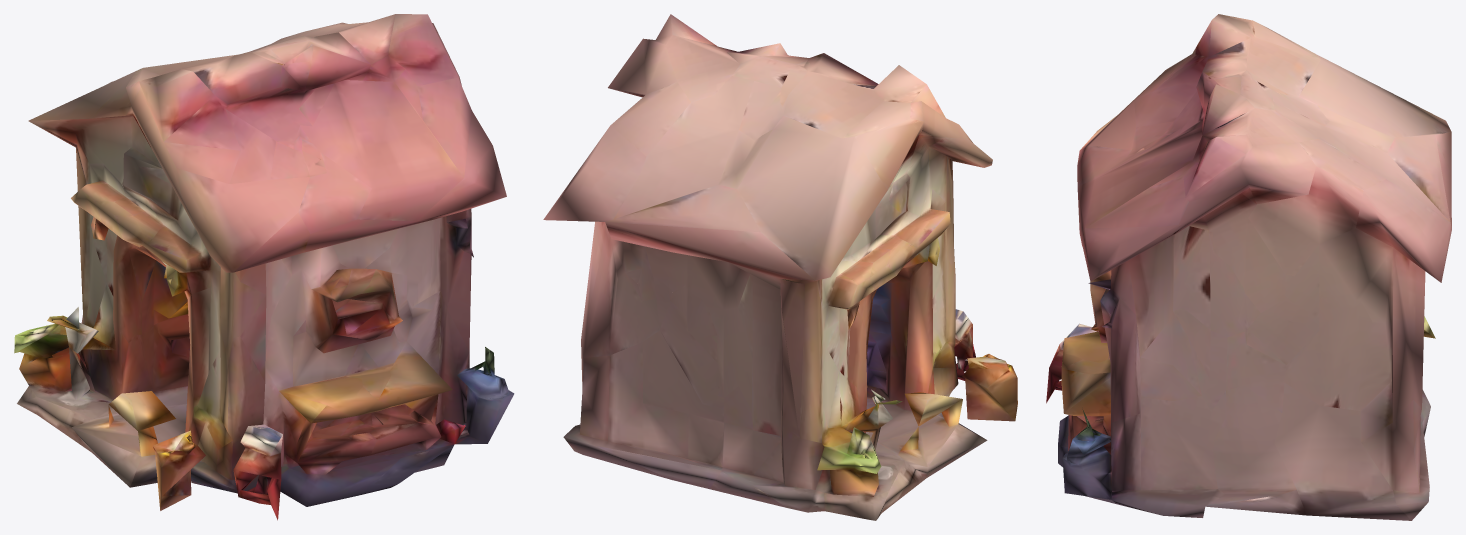
File: tavern_small.glb
3 renders of one model, left to right at view 1: azimuth 30°, elevation 25°; view 2: azimuth 150°, elevation 25°; view 3: azimuth 270°, elevation 25°, orthographic. The views are drawn at different scales.
Parts seen in each view (by area): view 1: tripo_node_5247cef7-4d05-4a25-8055-e1826330bb93; view 2: tripo_node_5247cef7-4d05-4a25-8055-e1826330bb93; view 3: tripo_node_5247cef7-4d05-4a25-8055-e1826330bb93.
Part boxes in pixels (box(x1,y1,x2,y2)): tripo_node_5247cef7-4d05-4a25-8055-e1826330bb93: box(14, 14, 514, 520); tripo_node_5247cef7-4d05-4a25-8055-e1826330bb93: box(543, 14, 1017, 520); tripo_node_5247cef7-4d05-4a25-8055-e1826330bb93: box(1046, 14, 1451, 520).
Size of the model in its own units: 0.8738 by 0.9751 by 0.9254.
Materials: 1 (1 with a texture image).
